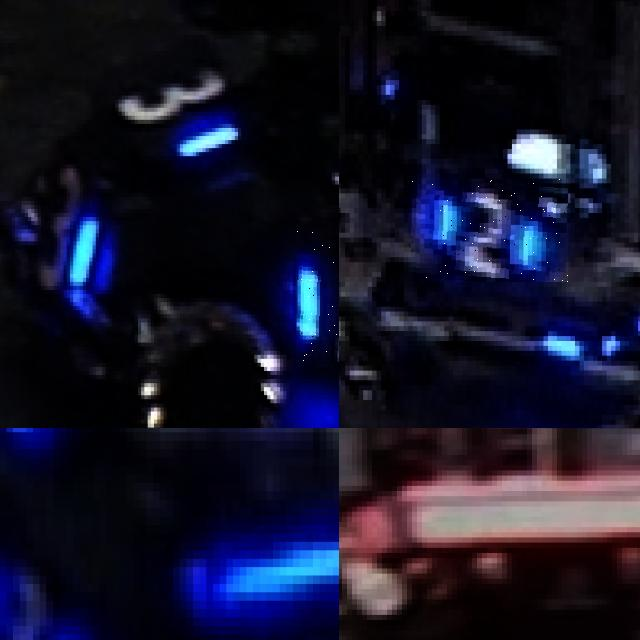B2: (411, 178, 568, 282)
B3: (0, 558, 72, 640), (296, 229, 339, 366)
